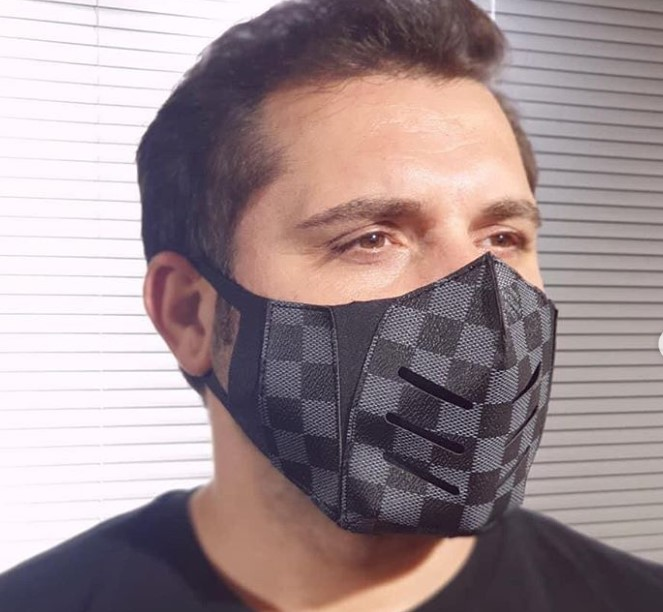face_with_mask: (144, 3, 563, 545)
